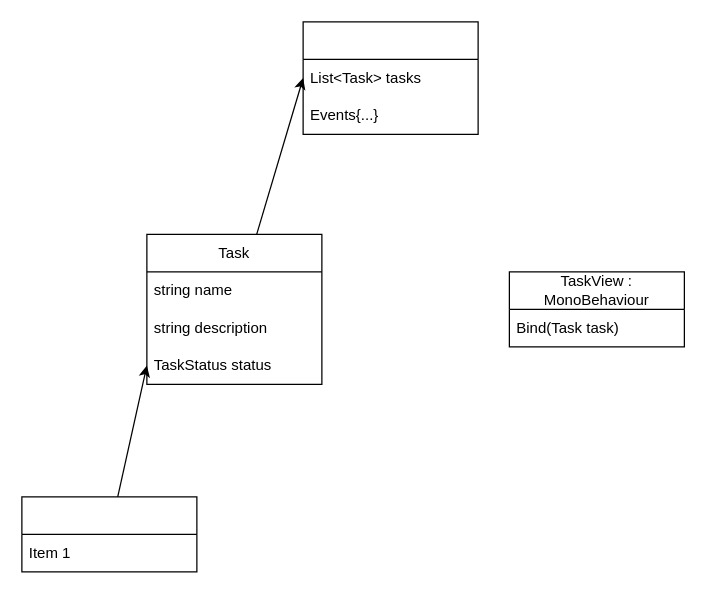
The diagram is 706 pixels wide and 594 high, and some of its shapes have lost their labels. The shapes that lost their labels are listed below. From the top down, each one's box as (x1, y1, x2, y2) in pixels, then its label:
(302, 21, 478, 134): TaskSpace
(21, 496, 197, 572): TaskStatus
